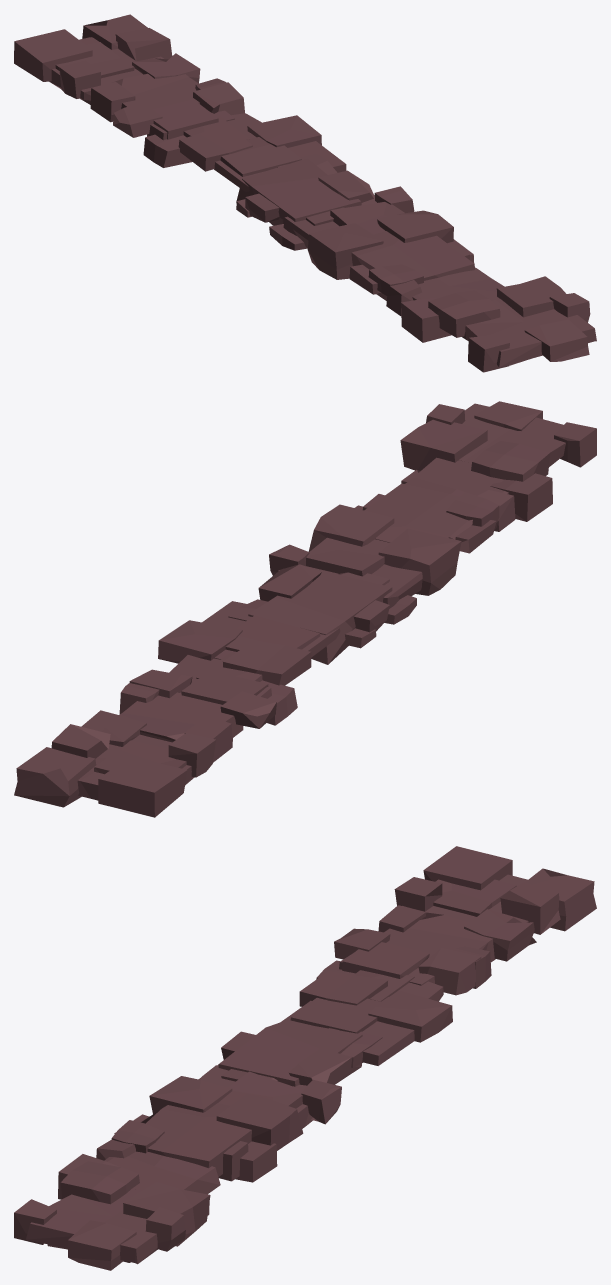
The model's file is Long Bridge.fbx.
3 views of the same model, one above another, from view 1: azimuth 30°, elevation 25°; view 2: azimuth 150°, elevation 25°; view 3: azimuth 330°, elevation 25° (orthographic). The views are drawn at different scales.
Parts seen in each view (by area): view 1: Cube.015, Cube.049; view 2: Cube.015, Cube.049; view 3: Cube.015, Cube.049.
Boxes of the visible parts, x1,y1,x2,y2 form: Cube.015: (236, 158, 596, 372); Cube.049: (14, 14, 346, 191); Cube.015: (248, 401, 596, 664); Cube.049: (14, 599, 340, 817); Cube.015: (14, 1021, 362, 1270); Cube.049: (281, 846, 596, 1067).
Size of the model in its own units: 1173 by 280 by 5605.
